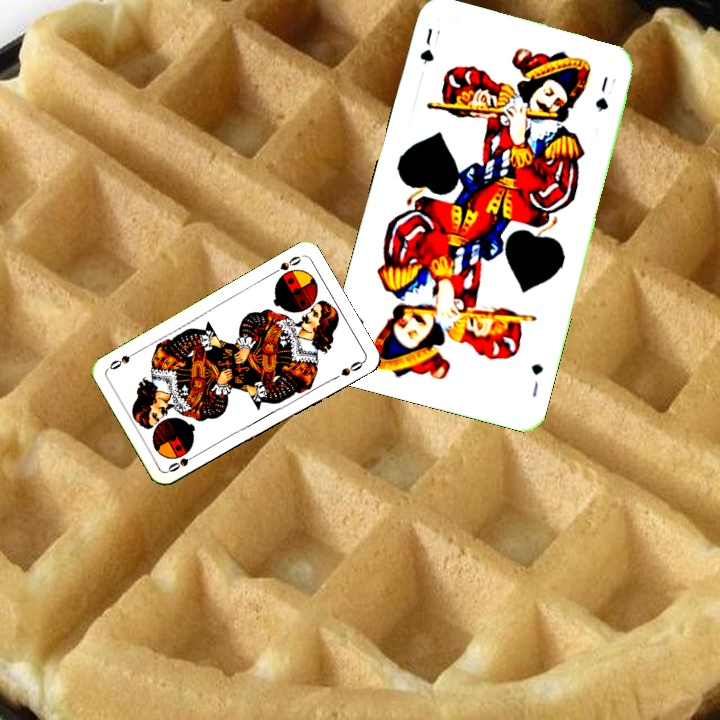GU: (415, 24, 437, 67), (527, 359, 546, 400)
SO: (164, 449, 201, 475), (268, 251, 305, 277)
